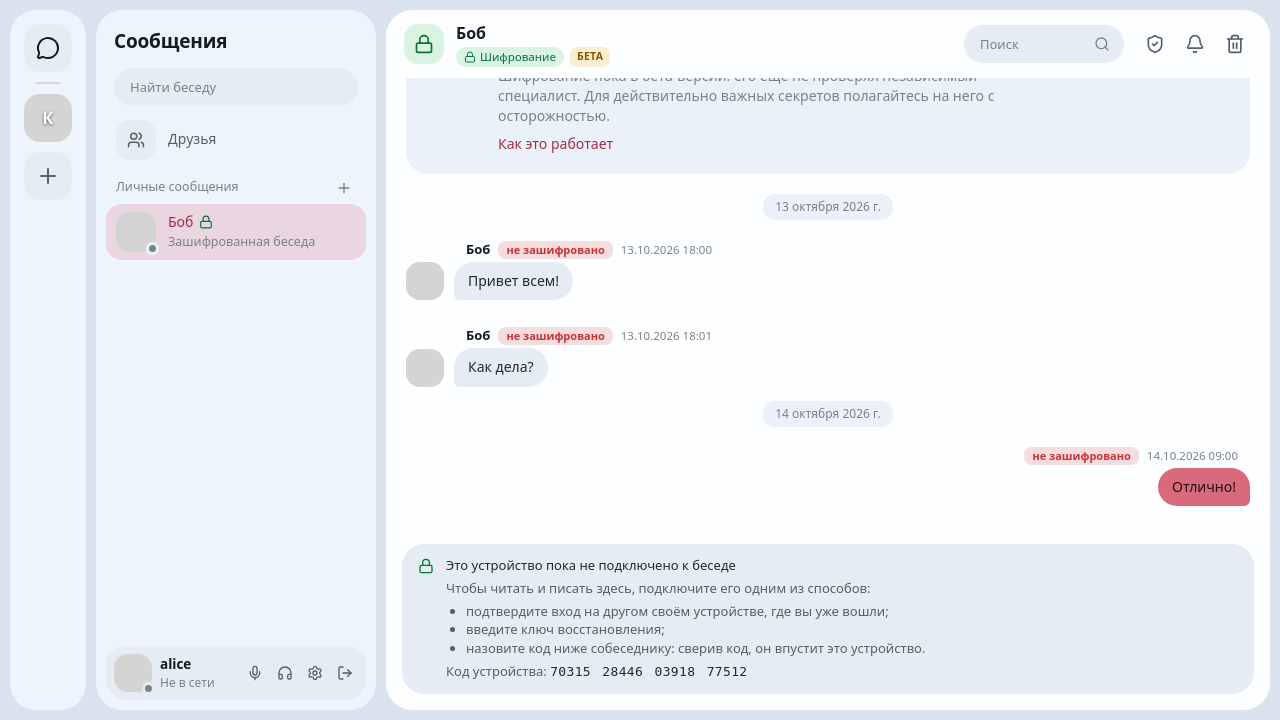
it: checking who is on the other end › shows the code even on a device still waiting to be let in
The image size is (1280, 720).
Click the button named "Проверка шифрования".
click(1155, 44)  # box [1136,25,1174,63]
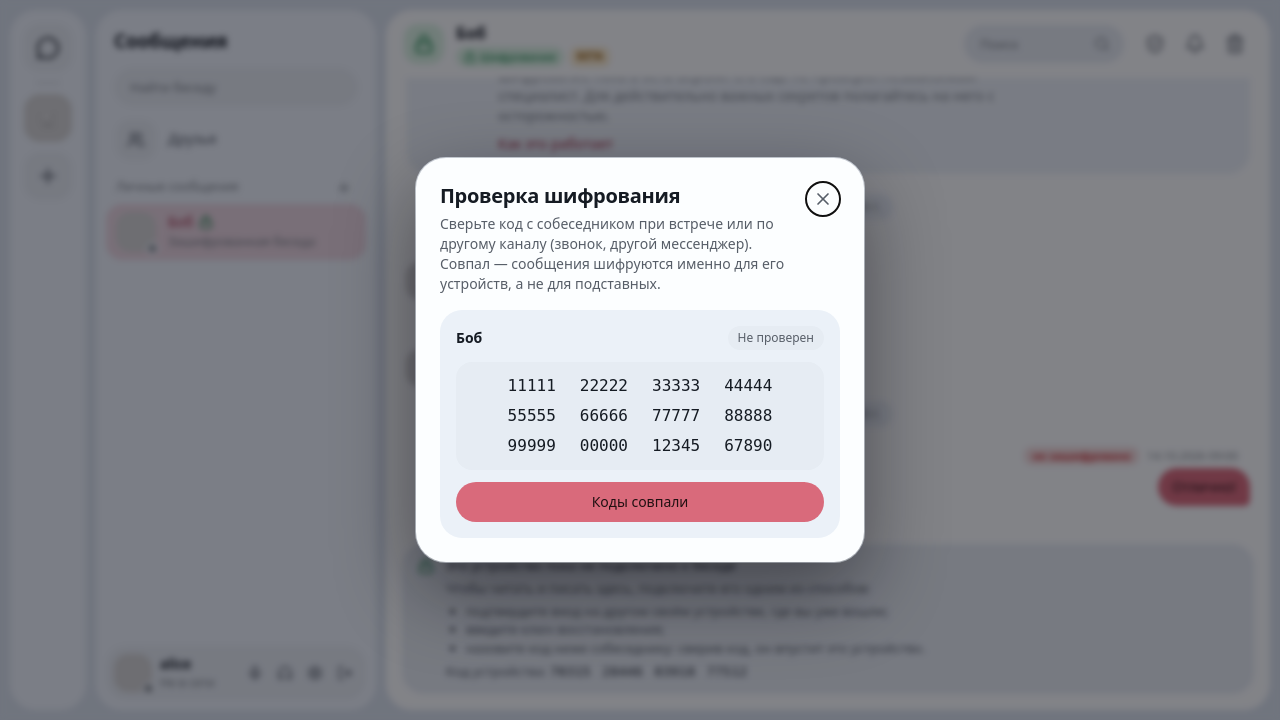
Check: the text "11111 22222 33333 44444" is shown, box [508,376,772,395]
